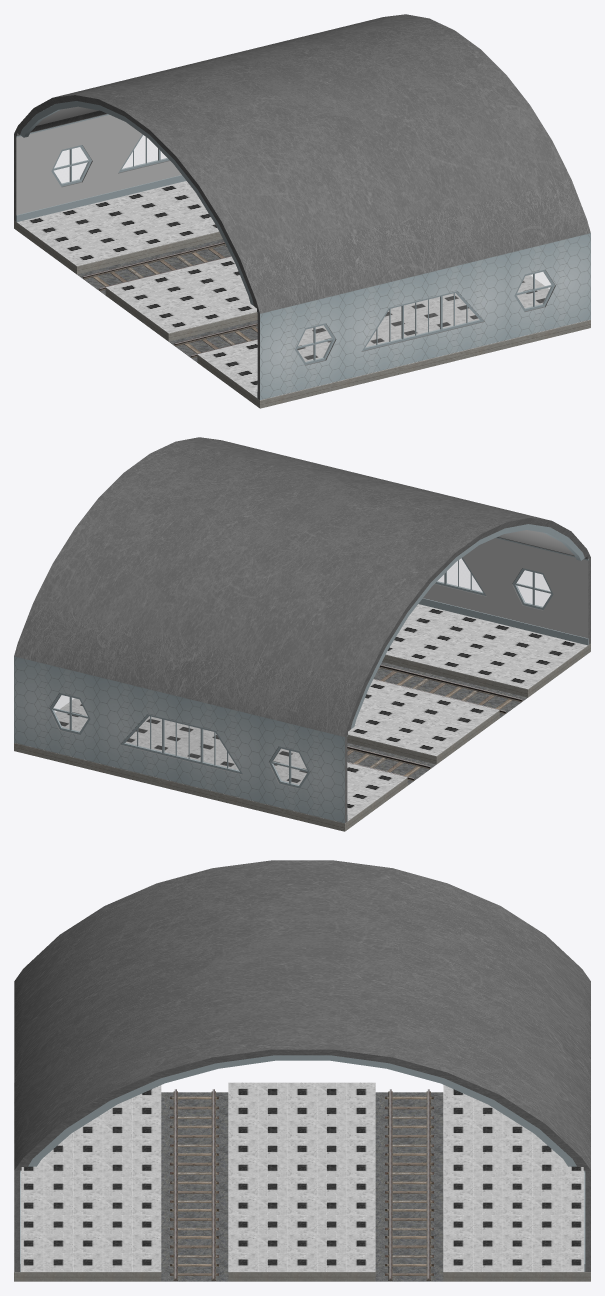
The model's file is Station02_B01.FBX.
3 renders of one model, top to bottom at view 1: azimuth 30°, elevation 25°; view 2: azimuth 150°, elevation 25°; view 3: azimuth 270°, elevation 25°, orthographic. The views are drawn at different scales.
Parts seen in each view (by area): view 1: Station02Roof01Light1, Station02Wall01, Station02Floor, Station02Window01, Station02FloorRailway, Station02Window01Mtl, Station02Railway, Station02Roof01Mtl, Station02WallPanel; view 2: Station02Roof01Light1, Station02Wall01, Station02Floor, Station02Window01, Station02Window01Mtl, Station02FloorRailway, Station02Railway, Station02Roof01Mtl, Station02WallPanel; view 3: Station02Roof01Light1, Station02Floor, Station02FloorRailway, Station02Railway, Station02Roof01Mtl, Station02Wall01.
Part boxes in pixels (x1,y1,x2,y2): Station02Roof01Light1: (14, 14, 590, 313); Station02Wall01: (14, 115, 590, 399); Station02Floor: (14, 181, 590, 408); Station02Window01: (54, 135, 550, 361); Station02FloorRailway: (77, 239, 257, 362); Station02Window01Mtl: (51, 134, 554, 364); Station02Railway: (82, 242, 257, 358); Station02Roof01Mtl: (20, 101, 253, 305); Station02WallPanel: (16, 114, 257, 397); Station02Roof01Light1: (14, 437, 590, 736); Station02Wall01: (14, 538, 590, 823); Station02Floor: (14, 604, 590, 831); Station02Window01: (53, 558, 550, 784); Station02Window01Mtl: (49, 557, 553, 788); Station02FloorRailway: (347, 662, 527, 785); Station02Railway: (347, 665, 522, 780); Station02Roof01Mtl: (351, 524, 584, 728); Station02WallPanel: (347, 537, 588, 821); Station02Roof01Light1: (14, 860, 590, 1170); Station02Floor: (14, 1082, 590, 1281); Station02FloorRailway: (161, 1092, 443, 1281); Station02Railway: (170, 1089, 433, 1280); Station02Roof01Mtl: (28, 1055, 576, 1166); Station02Wall01: (14, 1170, 590, 1271).
Bounding box in the file's own units: 36504 × 20867 × 47028.
